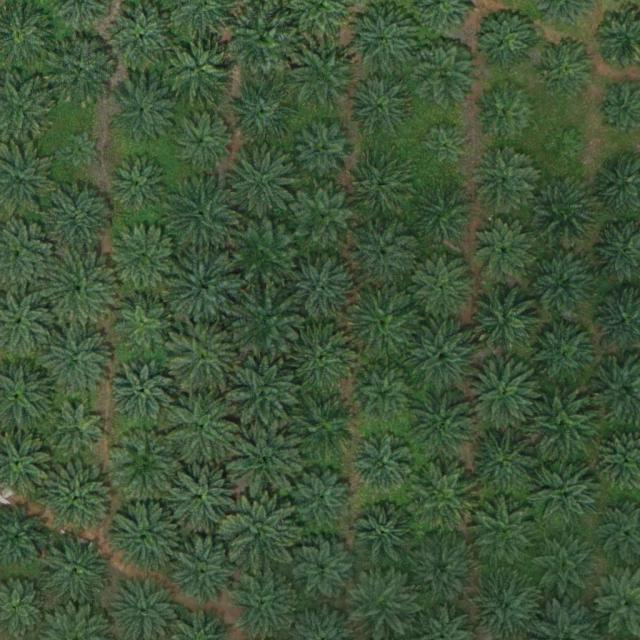Healthy: (109, 79, 180, 150), (231, 285, 302, 356), (229, 426, 300, 497), (349, 284, 420, 355), (409, 389, 480, 460), (470, 499, 541, 570), (41, 536, 112, 607), (528, 251, 598, 322), (350, 7, 421, 77), (290, 42, 360, 113), (286, 255, 356, 326), (227, 216, 297, 287), (165, 34, 235, 105), (168, 176, 238, 247), (168, 252, 238, 323), (108, 4, 178, 75), (110, 224, 180, 295), (47, 38, 117, 109), (41, 327, 111, 398), (111, 429, 181, 500), (112, 500, 182, 571), (169, 459, 239, 530), (225, 498, 296, 568), (291, 322, 361, 393), (410, 467, 480, 538), (526, 390, 596, 461), (529, 533, 599, 604), (529, 175, 599, 245), (348, 220, 418, 290), (229, 5, 299, 75), (227, 75, 297, 145), (228, 145, 298, 215), (44, 183, 114, 253), (45, 254, 115, 324), (43, 464, 113, 534), (169, 323, 239, 393), (170, 393, 240, 463), (228, 360, 298, 430), (289, 394, 359, 464), (410, 322, 480, 392), (407, 535, 477, 605), (471, 285, 541, 355), (469, 360, 539, 430), (470, 428, 540, 498), (527, 318, 597, 388), (531, 462, 601, 532), (347, 569, 417, 639), (171, 537, 241, 607), (474, 7, 537, 70), (412, 43, 475, 106), (412, 256, 475, 319), (110, 359, 173, 422), (352, 434, 415, 497), (355, 505, 418, 568), (538, 39, 600, 102), (477, 81, 539, 144), (472, 149, 534, 212), (472, 218, 534, 281), (414, 184, 476, 247), (350, 73, 412, 136), (348, 156, 410, 219), (294, 121, 356, 184), (294, 186, 356, 249), (107, 153, 170, 215), (48, 401, 110, 464), (113, 290, 175, 353), (292, 467, 354, 530), (293, 541, 355, 604), (171, 110, 233, 172), (356, 370, 411, 425)
Small: (421, 125, 468, 172), (544, 127, 583, 167), (62, 130, 101, 170)
